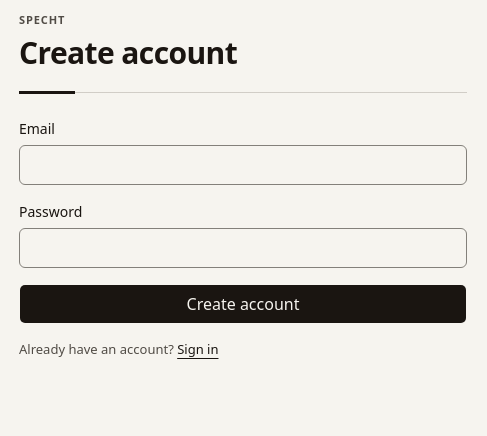
Test: Register › counts the email and its local part against the password
Type "ada.lovelace@acme.example" into the field labelled "Email" at {"x": 243, "y": 165}, box [19,145,467,185]
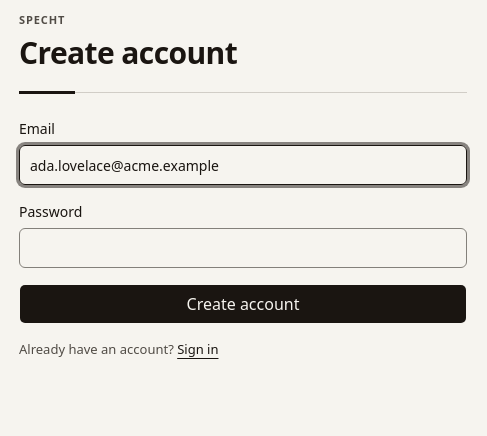
Type "ada.lovelace-1815" into the password field labelled "Password" at {"x": 243, "y": 248}, box [19,228,467,268]
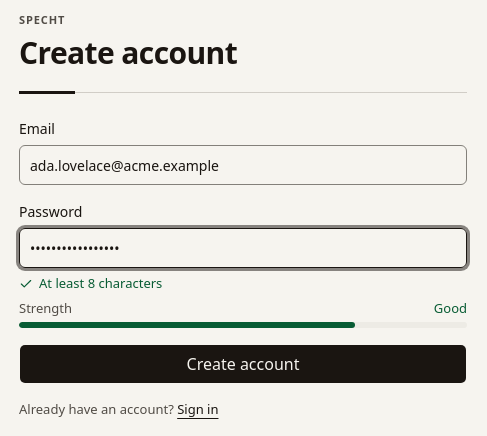
Expected: the element showing "Strength Good" is shown, [19,299,467,328]
